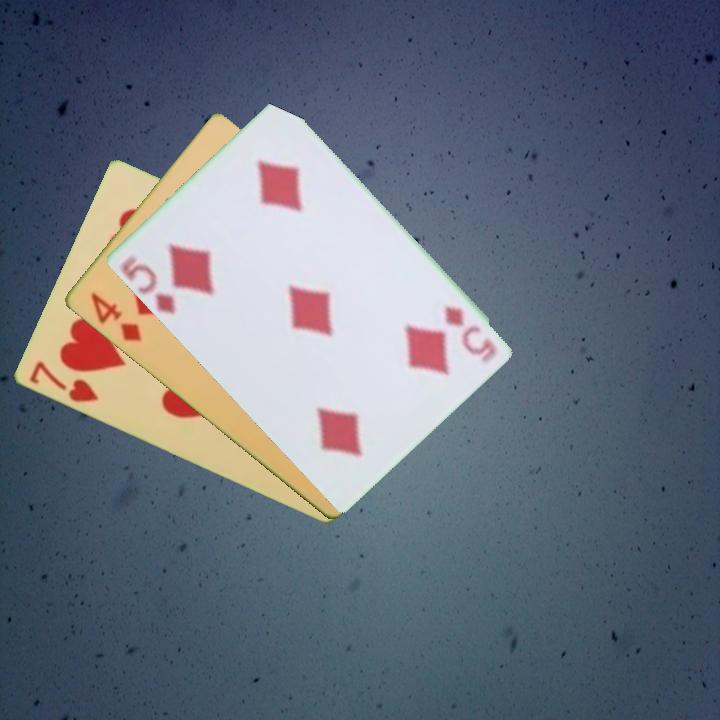4d: (86, 288, 144, 345)
5d: (117, 252, 178, 318), (440, 302, 500, 360)
7h: (25, 358, 101, 406)
